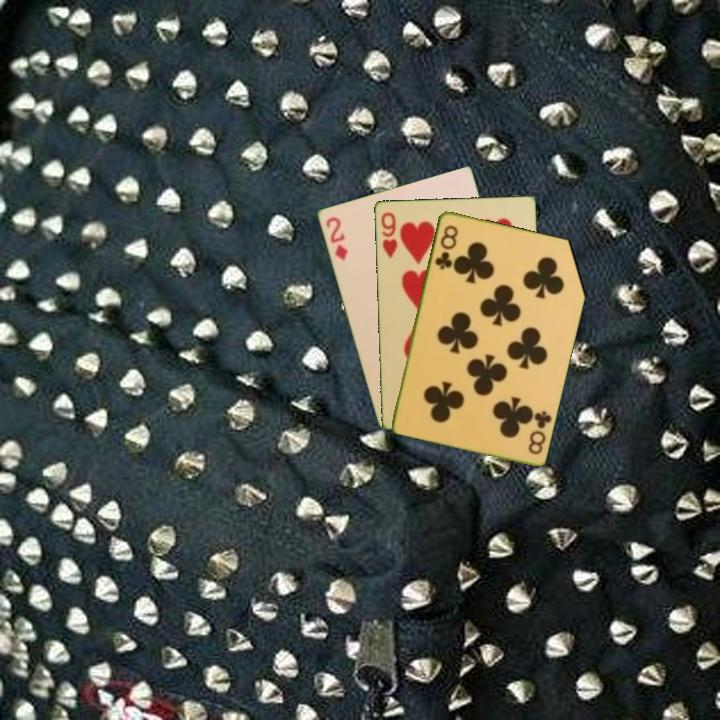2d: (322, 213, 350, 263)
8c: (431, 221, 461, 272), (525, 407, 554, 457)
9h: (377, 208, 400, 261)
